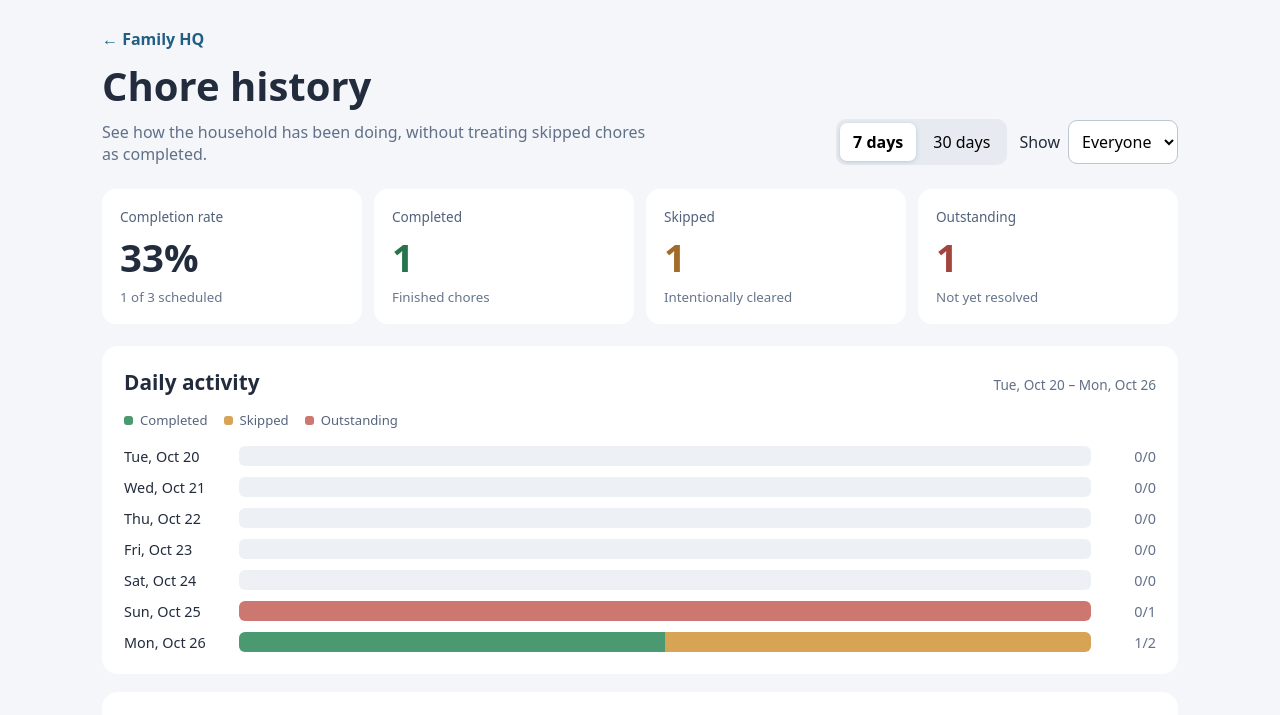
Test: chore history dashboard › filters to one child and updates all summary counts
Select "Alex" in the dropdown named "Child" at (1123, 142), box x1=1068 y1=120 x2=1178 y2=164
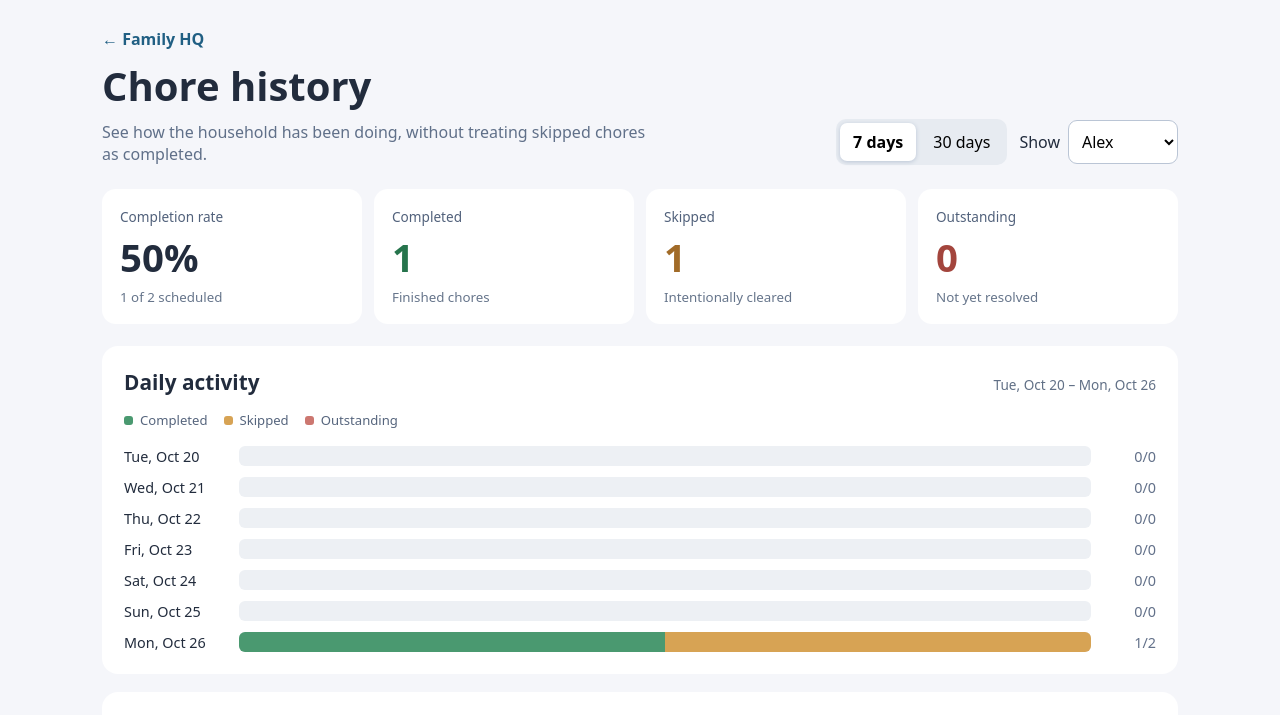
Result: the text "50%" is shown at x1=120 y1=231 x2=198 y2=283
Result: the text "1 of 2 scheduled" is shown at x1=120 y1=288 x2=222 y2=306
